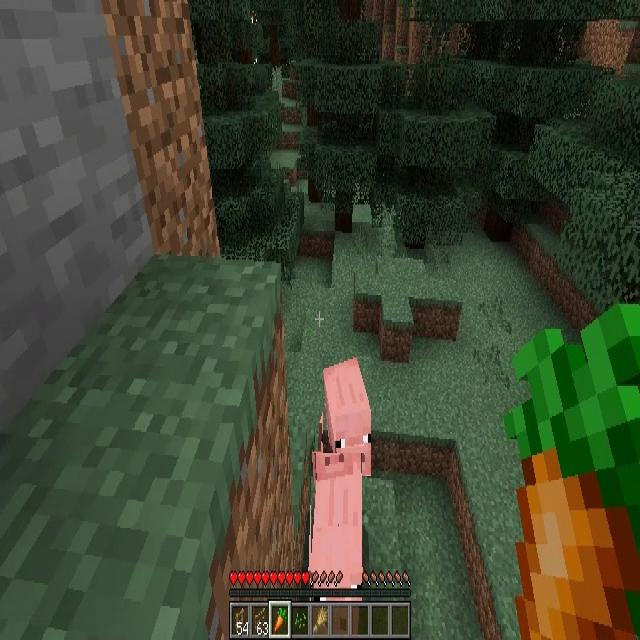pig: (311, 453, 362, 603), (323, 356, 371, 476)
